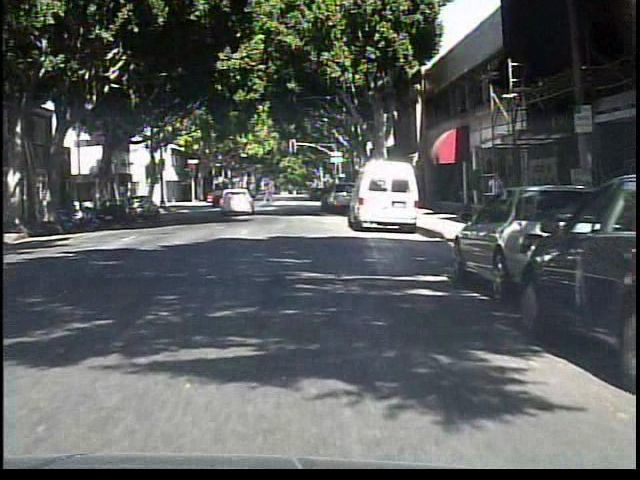person: (481, 165, 507, 225), (260, 180, 280, 213)
